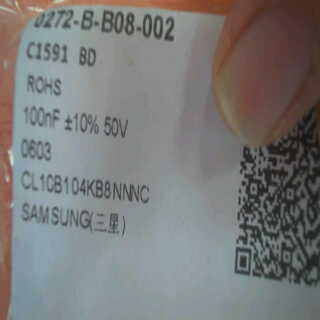100nF: (20, 101, 61, 133)
